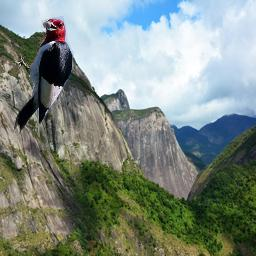Woodpecker: (9, 11, 74, 138)
